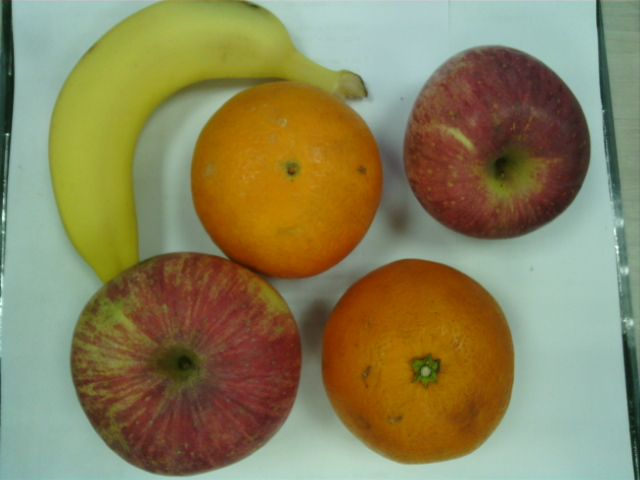normal_apple: (73, 252, 302, 475), (405, 44, 590, 238)
normal_banana: (50, 1, 369, 279)
normal_orange: (323, 259, 513, 466), (190, 81, 381, 272)
